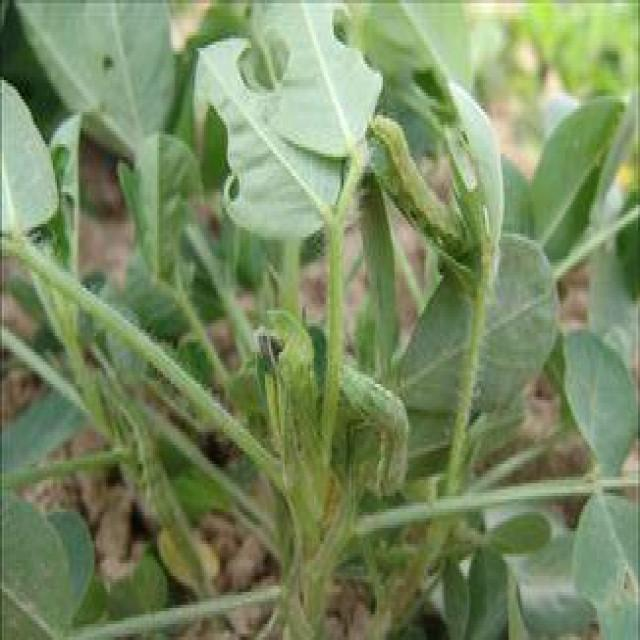BeetArmyWorm-Larva-: (360, 104, 483, 266), (328, 363, 419, 506)
